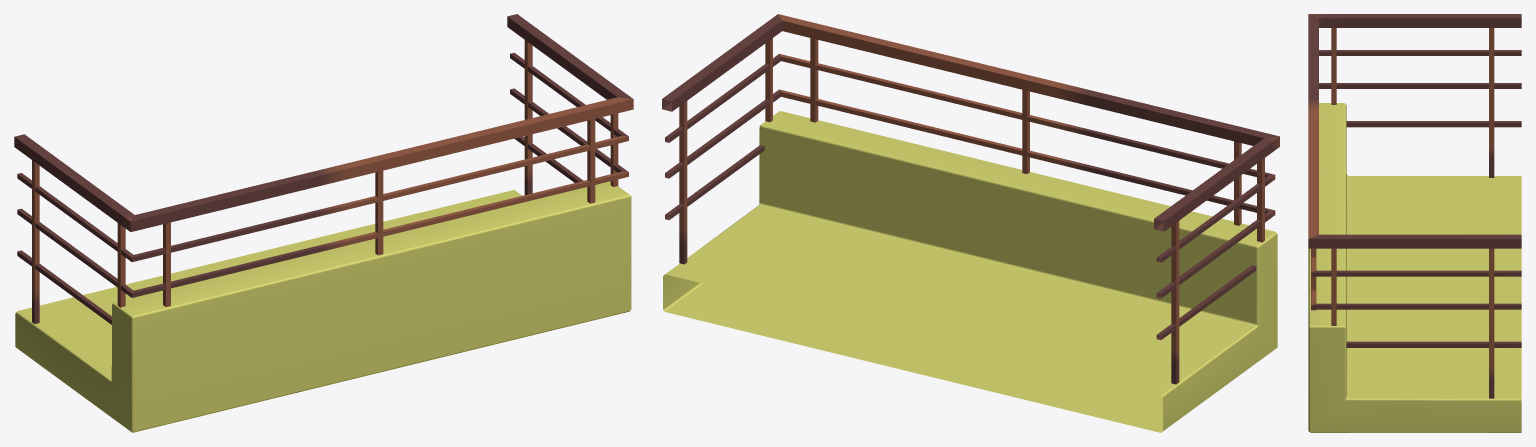
The model's file is DBK_Balcony_B.FBX.
3 renders of one model, left to right at view 1: azimuth 30°, elevation 25°; view 2: azimuth 150°, elevation 25°; view 3: azimuth 270°, elevation 25°, orthographic. The views are drawn at different scales.
Parts seen in each view (by area): view 1: DBK_Balcony_B, DBK_Balcony_B_Metal; view 2: DBK_Balcony_B, DBK_Balcony_B_Metal; view 3: DBK_Balcony_B, DBK_Balcony_B_Metal.
Part boxes in pixels (bbox=[...]): DBK_Balcony_B: bbox=[15, 181, 631, 432]; DBK_Balcony_B_Metal: bbox=[14, 14, 633, 324]; DBK_Balcony_B: bbox=[663, 111, 1277, 432]; DBK_Balcony_B_Metal: bbox=[662, 14, 1279, 384]; DBK_Balcony_B: bbox=[1308, 103, 1521, 432]; DBK_Balcony_B_Metal: bbox=[1308, 14, 1521, 398].
Bounding box in the file's own units: 251 × 102 × 101.
